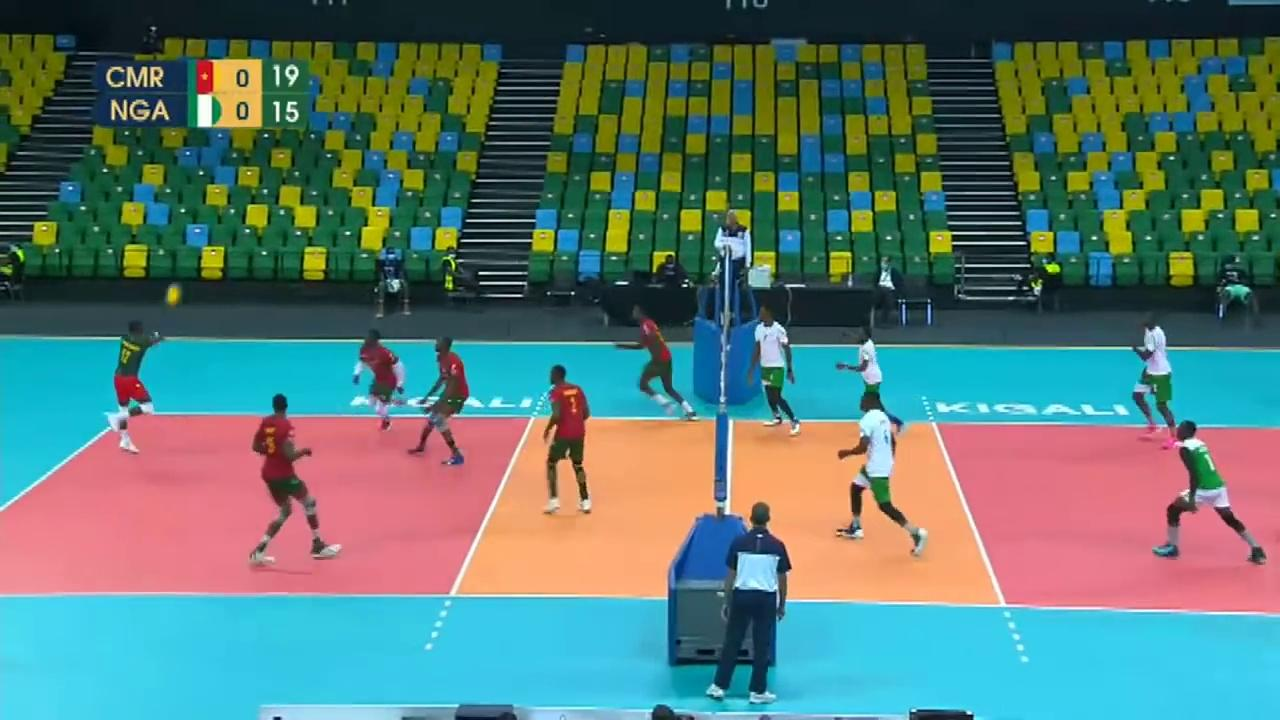player: (250, 398, 344, 561), (1158, 423, 1267, 561), (835, 393, 923, 550), (531, 368, 593, 514), (844, 320, 914, 438), (411, 338, 472, 466), (628, 303, 693, 417), (111, 321, 163, 451), (752, 307, 801, 432), (1131, 317, 1181, 433), (355, 327, 404, 435)
refree: (710, 501, 795, 707), (707, 202, 755, 316)
